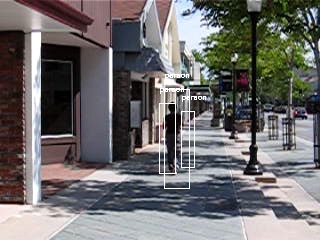person: (163, 101, 186, 176), (162, 101, 185, 176), (164, 101, 187, 176), (163, 100, 186, 175), (163, 102, 186, 177)
target_negative: (48, 91, 77, 213), (303, 76, 310, 185), (126, 226, 302, 230), (127, 232, 161, 237), (235, 236, 291, 237), (215, 235, 227, 236)
